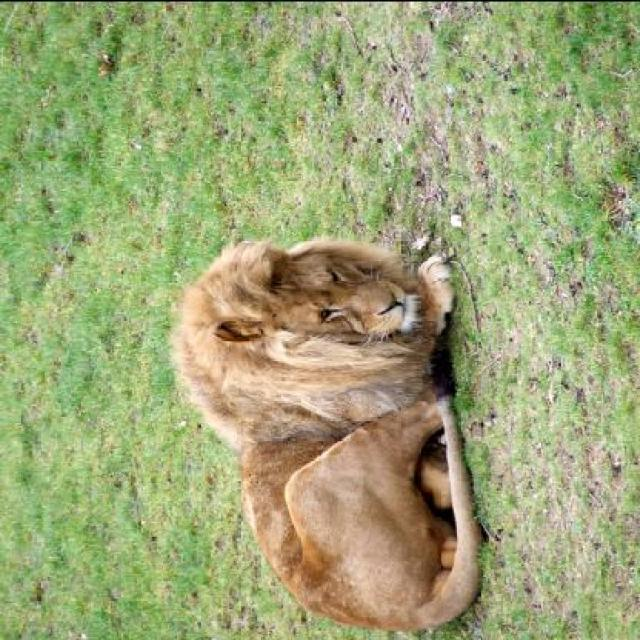Lion: (158, 226, 496, 639)
